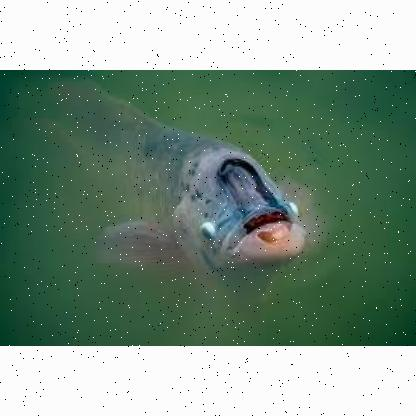gurame: (41, 81, 309, 305)
